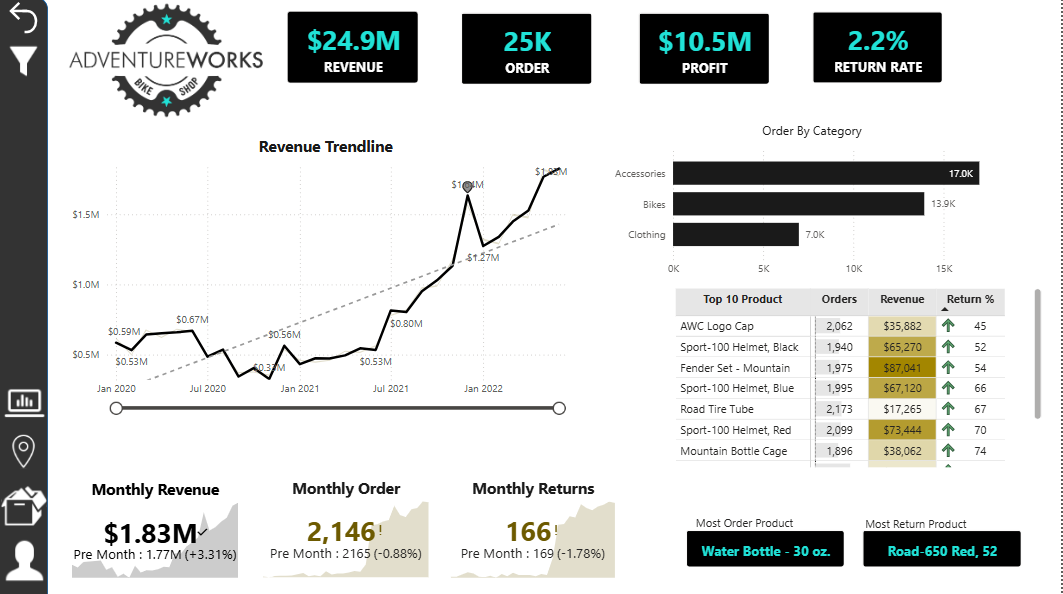

Layout of this report page (visuals, bound fields, positions):
{"tool":"powerbi","page":{"name":"Excel Dashboard","canvas":[1280,720],"ordinal":0},"visuals":[{"type":"group","id":"g1","title":"Close Nav","box":[0,0,65.6,720],"z":0},{"type":"shape","box":[0,0,60.3,720.2],"z":0,"group":"g1"},{"type":"actionButton","box":[6.6,0,49.4,49.4],"z":1000,"group":"g1"},{"type":"image","box":[60.4,1.4,285.4,149.6],"z":2000},{"type":"actionButton","box":[6,51.9,54.3,49.5],"z":2000,"group":"g1"},{"type":"cardVisual","fields":{"Data":["ALL Measures.Total Revenue"]},"box":[331,0,192.6,121.9],"z":3000},{"type":"actionButton","box":[2.4,458.4,57.9,57.9],"z":3000,"group":"g1"},{"type":"cardVisual","fields":{"Data":["ALL Measures.Total Order"]},"box":[540.1,1.5,192.6,121.9],"z":4000},{"type":"actionButton","box":[6,522.4,49.5,49.5],"z":4000,"group":"g1"},{"type":"cardVisual","fields":{"Data":["ALL Measures.Total Profit"]},"box":[753.7,1.5,192.6,121.9],"z":5000},{"type":"actionButton","box":[0,646.7,65.1,63.9],"z":5000,"group":"g1"},{"type":"cardVisual","fields":{"Data":["ALL Measures.Return Rate"]},"box":[962.9,0,191.1,121.9],"z":6000},{"type":"actionButton","box":[0,583.9,63.9,62.7],"z":6000,"group":"g1"},{"type":"lineChart","title":"Revenue Trendline","fields":{"Y":["ALL Measures.Total Revenue"],"Category":["Calendar Lookup.Start Of Month.Variation.Date Hierarchy.Year"]},"box":[83.7,167.4,620.2,338.9],"z":7000},{"type":"clusteredBarChart","title":"Order By Category","fields":{"Y":["ALL Measures.Total Order"],"Category":["Product Category.CategoryName"]},"box":[732.8,150.9,494,194.9],"z":8000},{"type":"kpi","title":"Monthly Revenue ","fields":{"TrendLine":["Calendar Lookup.Start Of Month"],"Indicator":["ALL Measures.Total Revenue"],"Goal":["ALL Measures.Previous Month Revenue"]},"box":[83.7,579.1,209.9,124.9],"z":9000},{"type":"kpi","title":"Monthly Order","fields":{"Indicator":["ALL Measures.Total Order"],"Goal":["ALL Measures.Previous Month Orders"],"TrendLine":["Calendar Lookup.Start Of Month"]},"box":[314.1,577.9,208.9,126],"z":10000},{"type":"kpi","title":"Monthly Returns","fields":{"TrendLine":["Calendar Lookup.Start Of Month"],"Indicator":["ALL Measures.Total Return"],"Goal":["ALL Measures.Previous Month Returns"]},"box":[540.1,577.7,207.6,126.4],"z":11000},{"type":"pivotTable","fields":{"Rows":["Product Lookup.ProductName"],"Values":["ALL Measures.Total Order","ALL Measures.Total Revenue","ALL Measures.Total Return"]},"box":[811,345.8,450.1,225],"z":12000},{"type":"cardVisual","fields":{"Data":["Min(Product Lookup.ProductName)"]},"box":[811,624.4,225,79.6],"z":13000},{"type":"cardVisual","fields":{"Data":["Min(Product Lookup.ProductName)"]},"box":[1022.3,624.4,226.4,79.6],"z":14000},{"type":"textbox","box":[816.5,618.9,163.3,27.4],"z":15000},{"type":"textbox","box":[1022.3,620.2,163.3,27.4],"z":16000}]}

Visuals, with their boxes on the page's 1280x720 design canvas (x1, y1, x2, y2). These are canvas units, not pixel positions in the 1063x594 screenshot, which may show the page scaled, cropped or inside an application window:
"Close Nav" group: bbox(0, 0, 66, 720)
shape: bbox(0, 0, 60, 720)
actionButton: bbox(7, 0, 56, 49)
image: bbox(60, 1, 346, 151)
actionButton: bbox(6, 52, 60, 101)
cardVisual - ALL Measures.Total Revenue: bbox(331, 0, 524, 122)
actionButton: bbox(2, 458, 60, 516)
cardVisual - ALL Measures.Total Order: bbox(540, 2, 733, 123)
actionButton: bbox(6, 522, 56, 572)
cardVisual - ALL Measures.Total Profit: bbox(754, 2, 946, 123)
actionButton: bbox(0, 647, 65, 711)
cardVisual - ALL Measures.Return Rate: bbox(963, 0, 1154, 122)
actionButton: bbox(0, 584, 64, 647)
"Revenue Trendline" lineChart: bbox(84, 167, 704, 506)
"Order By Category" clusteredBarChart: bbox(733, 151, 1227, 346)
"Monthly Revenue " kpi: bbox(84, 579, 294, 704)
"Monthly Order" kpi: bbox(314, 578, 523, 704)
"Monthly Returns" kpi: bbox(540, 578, 748, 704)
pivotTable - Product Lookup.ProductName x ALL Measures.Total Order: bbox(811, 346, 1261, 571)
cardVisual - Min(Product Lookup.ProductName): bbox(811, 624, 1036, 704)
cardVisual - Min(Product Lookup.ProductName): bbox(1022, 624, 1249, 704)
textbox: bbox(816, 619, 980, 646)
textbox: bbox(1022, 620, 1186, 648)
